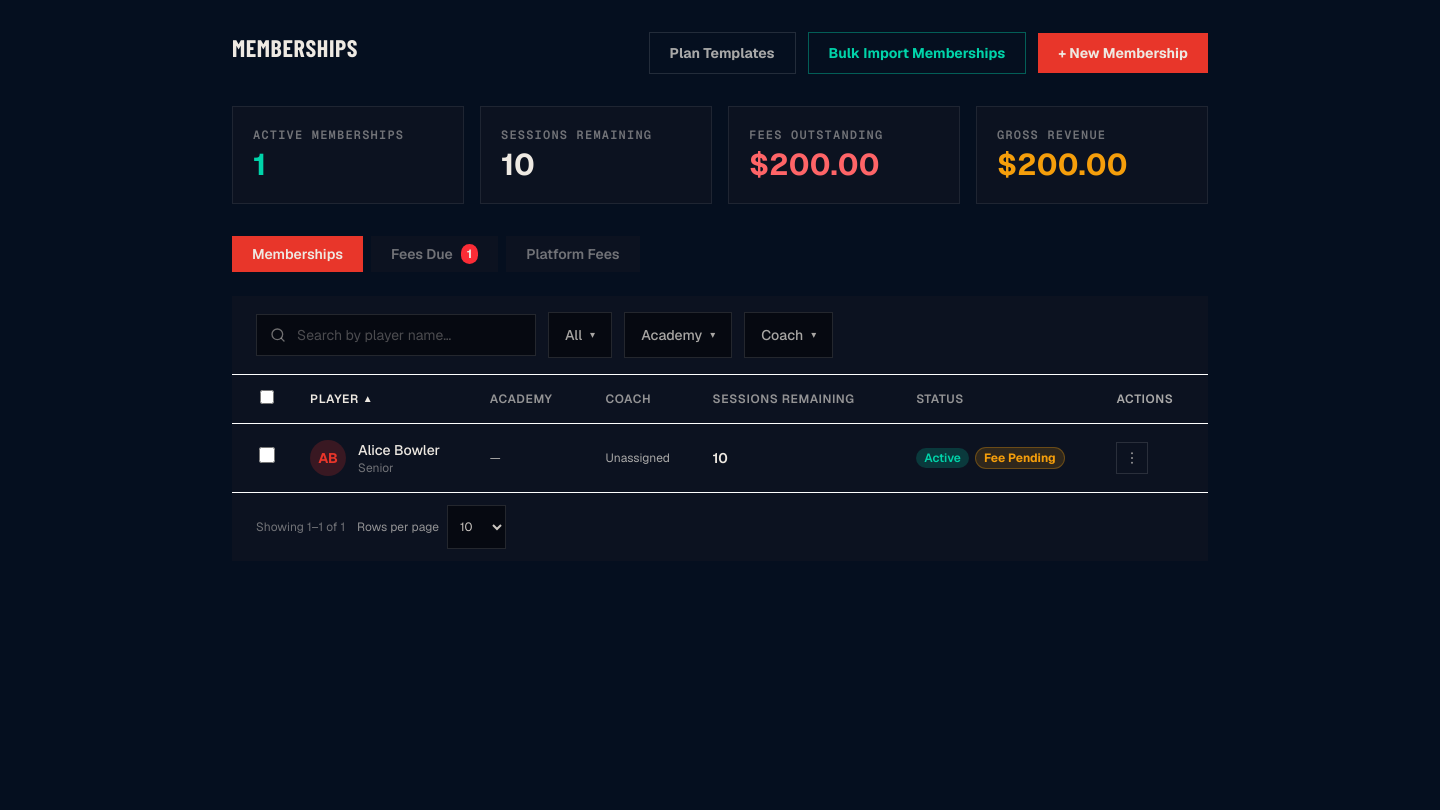
Test: SessionPacksClient › Mark Paid (Cash) on a pending membership opens a confirm, then records payment
The width and height of the screenshot is (1440, 810).
Expected: the text "Alice Bowler" is shown, [358,440,440,460]
Click the button named "More actions": (1132, 458) [1116,442,1148,474]
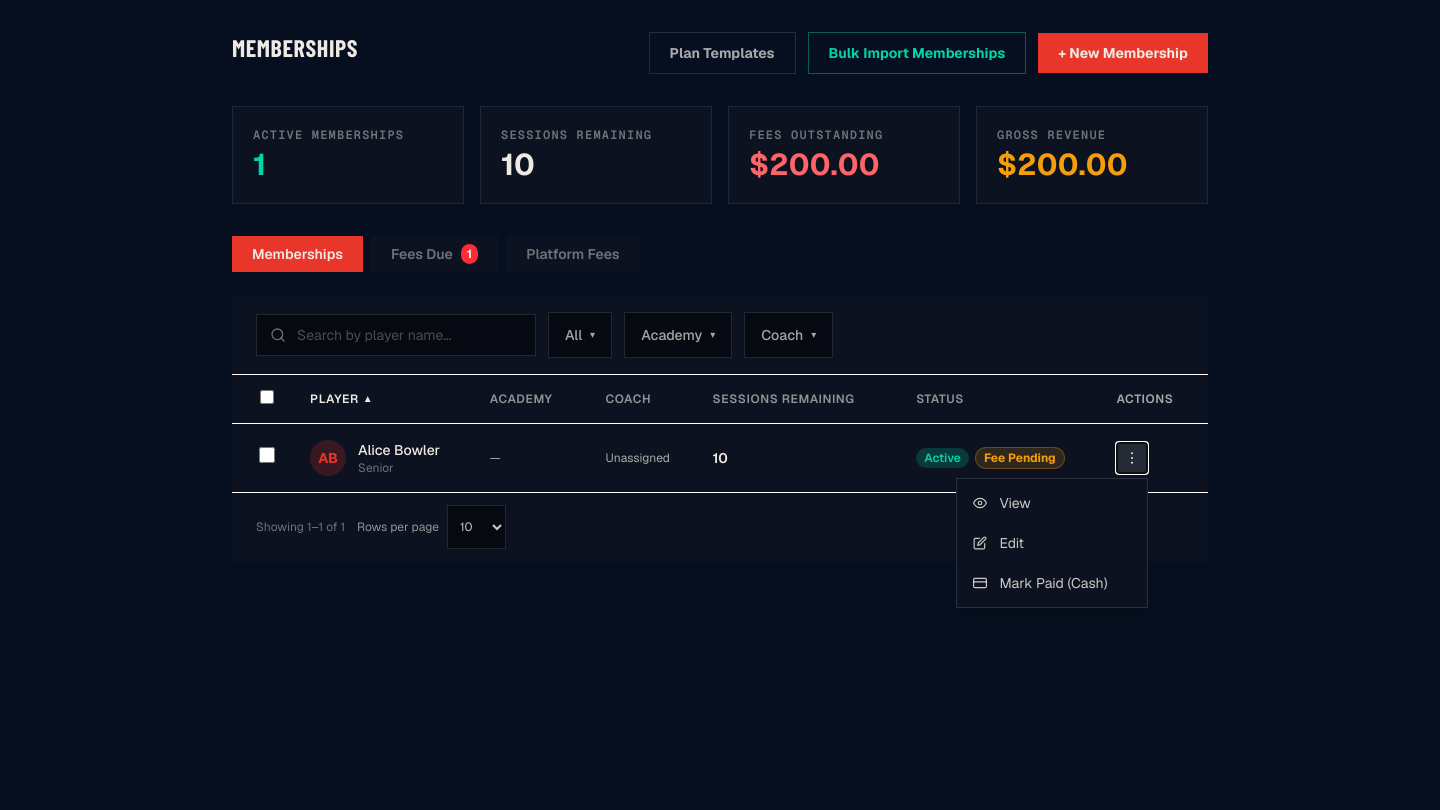
Click the button "Mark Paid (Cash)": (1052, 583) [958,563,1148,603]
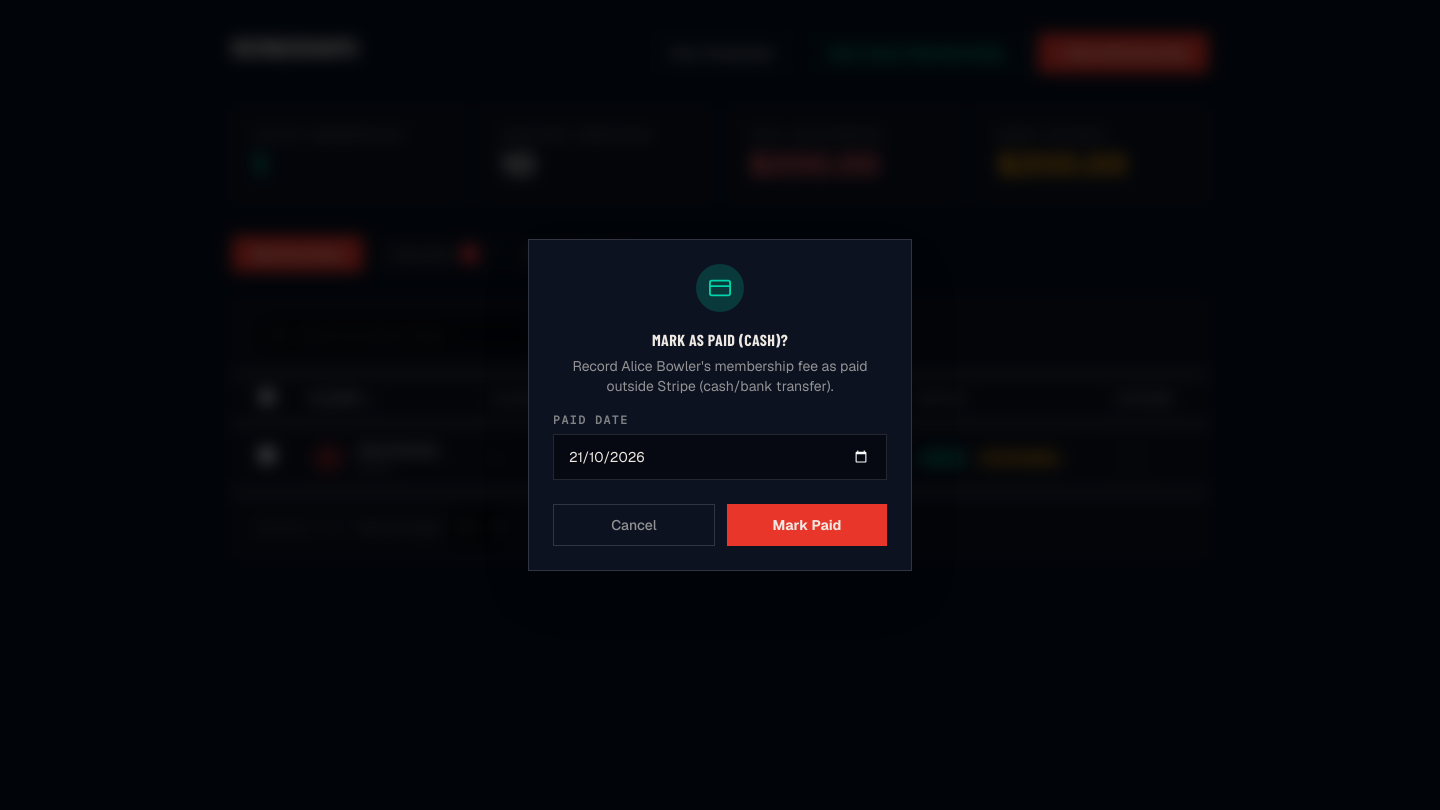
Expected: the heading "Mark as Paid (Cash)?" is shown, [652,330,788,349]
Click the button "Mark Paid": (807, 525) [727,504,887,546]
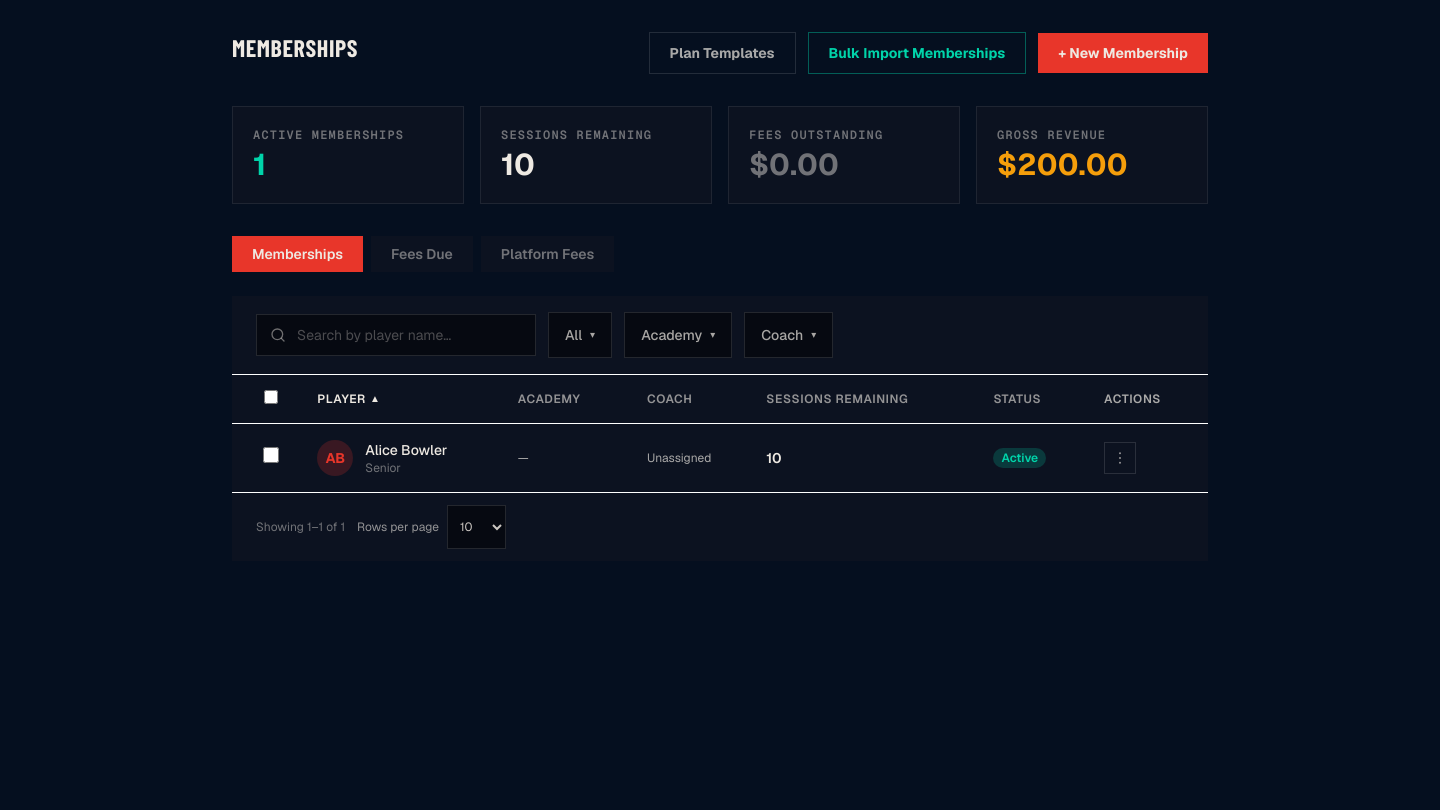
Expected: the heading "Mark as Paid (Cash)?" is gone
